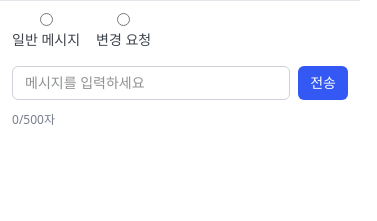
Test case: ChatMessageInput — BR-05 일반/변경요청 명시적 선택 (§4.1 필수 RTL 테스트) › [변경 요청]인데 요청 유형을 선택하지 않으면 전송이 차단됨
Click the radio button labelled "변경 요청". click: (124, 20)
box: [117,13,130,26]
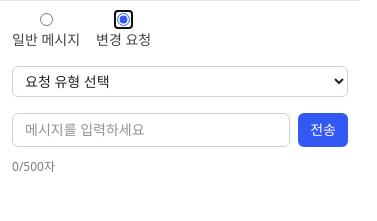
Type "일정 변경 요청합니다" into the field labelled "메시지". click: (151, 130)
box: [12,113,290,147]
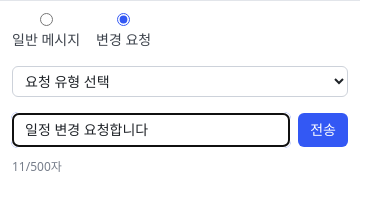
Click the button "전송". click: (323, 130)
box: [298,113,348,147]
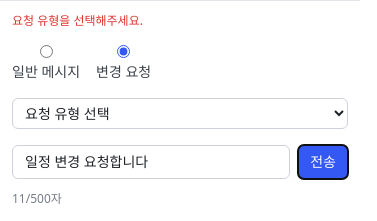
Expected: the text "요청 유형을 선택해주세요." is shown, [12,12,143,29]
